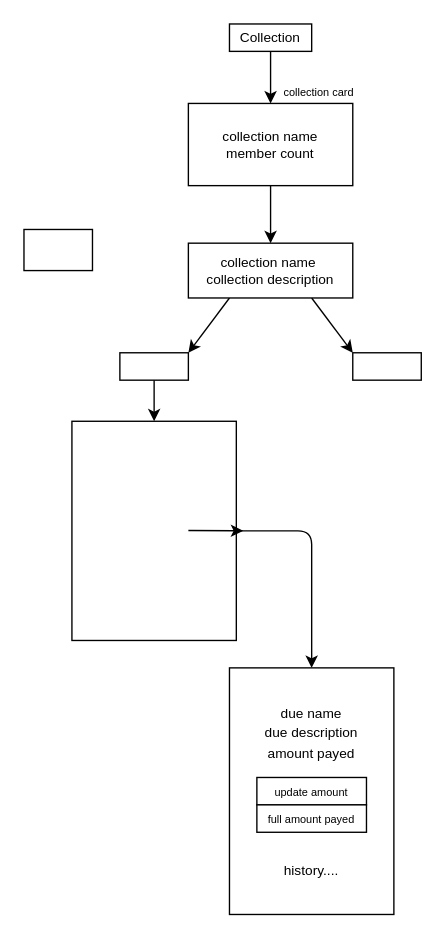
Some shapes in this 445 by 938 pixel diagram are drawn without their labels. Here are the shapes that lost their labels. From the top down, the centre of each, then its label:
(x=153, y=365): users
(x=386, y=365): dues
(x=153, y=530): user card username total dues due no.1 due no.2 due no.3 . . . due no.n
